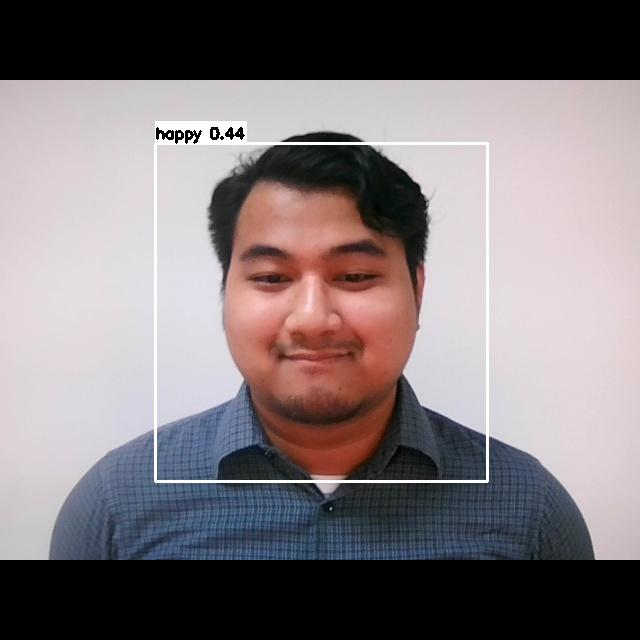Happy: (222, 227, 421, 401)
